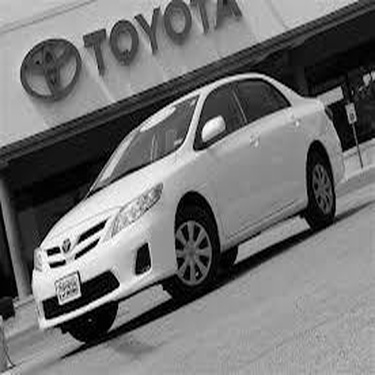car: (24, 69, 353, 348)
